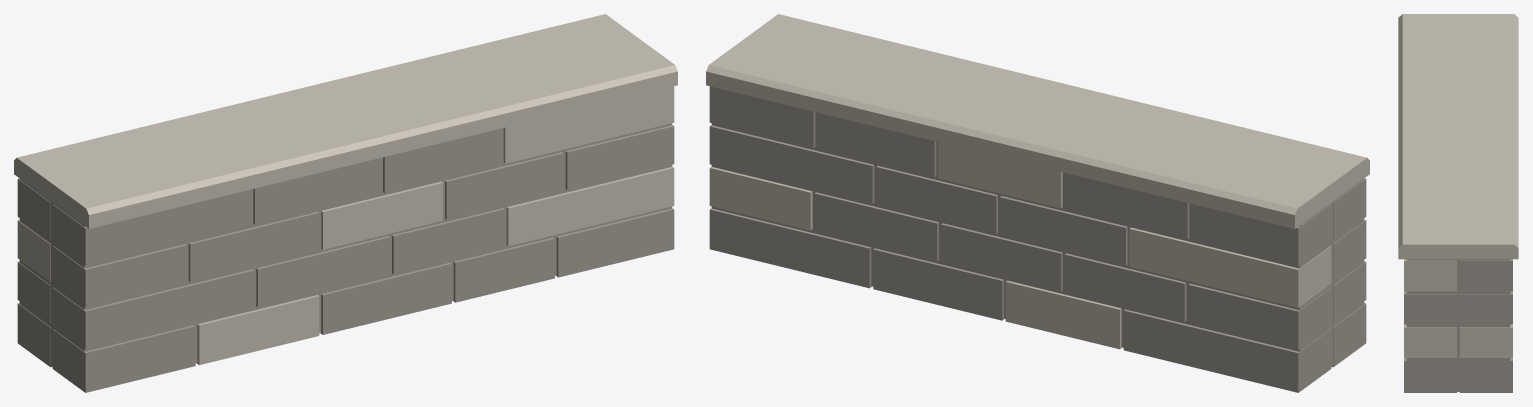
File: FMS_Garden_Wall_Stone.fbx
3 renders of one model, left to right at view 1: azimuth 30°, elevation 25°; view 2: azimuth 150°, elevation 25°; view 3: azimuth 270°, elevation 25°, orthographic. The views are drawn at different scales.
Visible parts, largest first — view 1: FMS_Garden_Wall_Stone_Body; view 2: FMS_Garden_Wall_Stone_Body; view 3: FMS_Garden_Wall_Stone_Body.
Boxes of the visible parts, bbox=[...] form: FMS_Garden_Wall_Stone_Body: bbox=[14, 14, 677, 392]; FMS_Garden_Wall_Stone_Body: bbox=[706, 14, 1369, 392]; FMS_Garden_Wall_Stone_Body: bbox=[1398, 14, 1518, 392].
Bounding box in the file's own units: 2 × 0.6 × 0.44.
